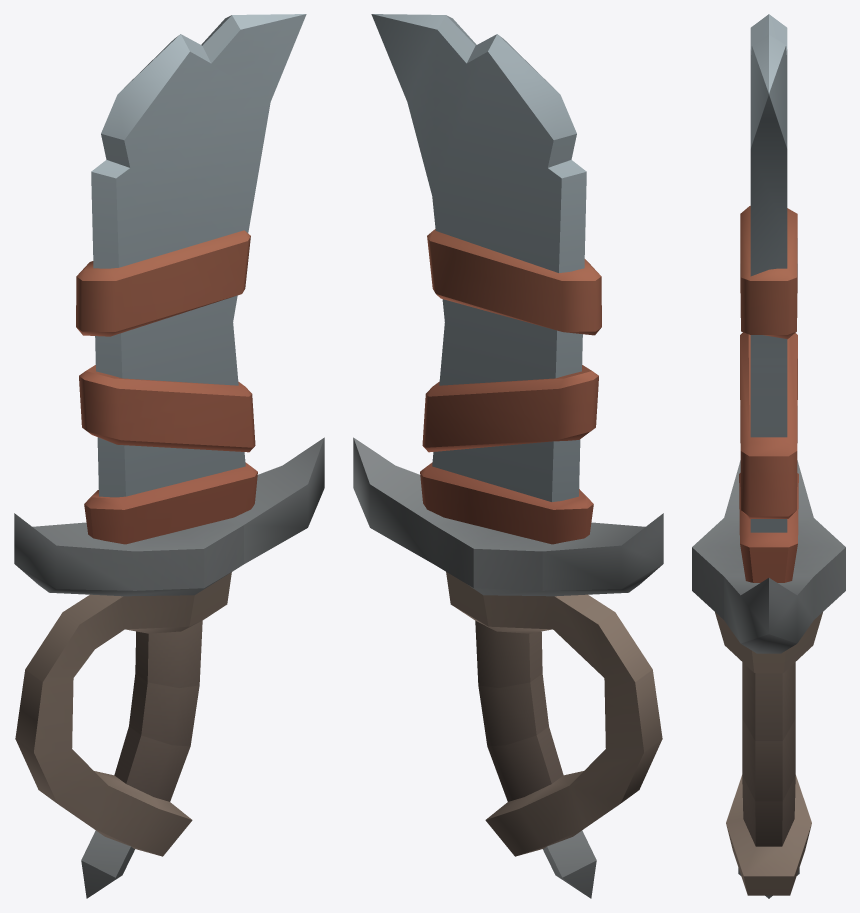
Rendered from Skeleton_Blade.glb.
The picture shows the model from 3 angles, left to right: view 1: azimuth 30°, elevation 25°; view 2: azimuth 150°, elevation 25°; view 3: azimuth 270°, elevation 25°; orthographic projection. The views are drawn at different scales.
Bounding box in the file's own units: 0.5726 × 1.5 × 0.2223.
Materials: 1 (1 with a texture image).
